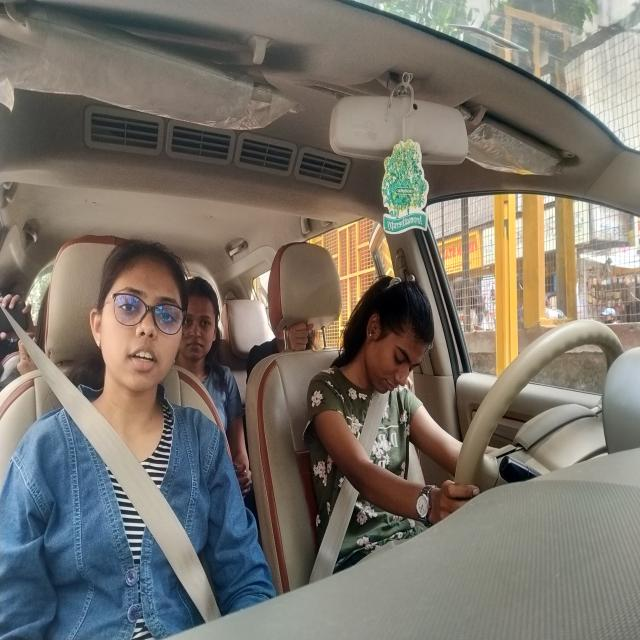drowsy: (359, 263, 443, 400)
person: (93, 240, 186, 401), (180, 266, 221, 358)
